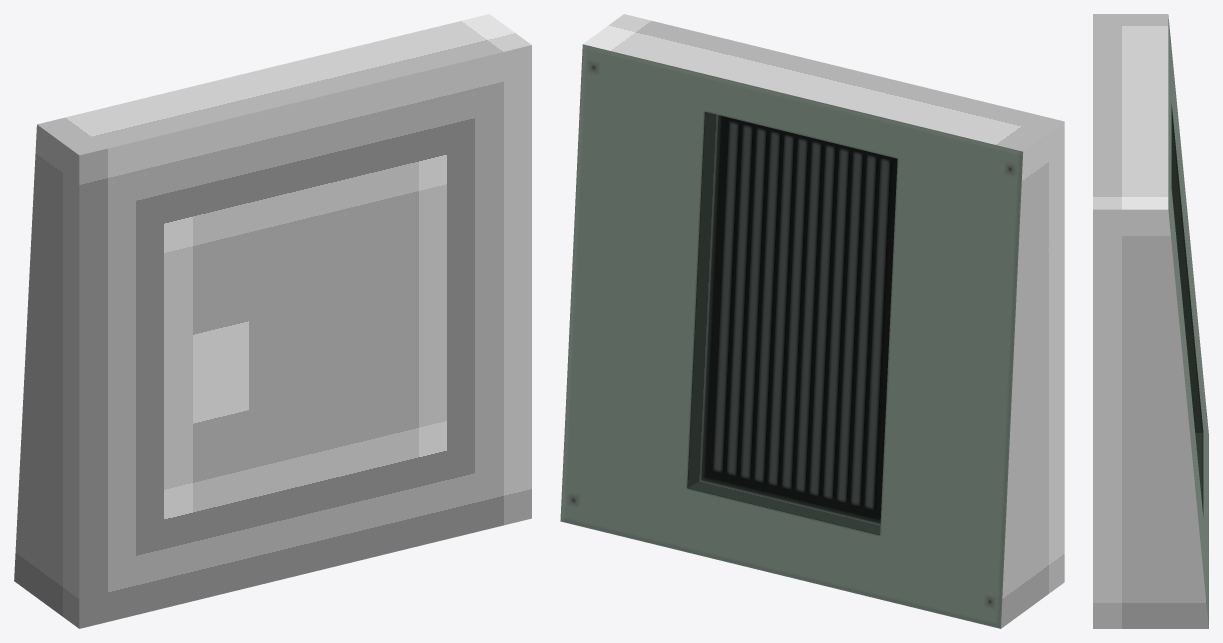
Rendered from header_vent.obj.
The picture shows the model from 3 angles, left to right: view 1: azimuth 30°, elevation 25°; view 2: azimuth 150°, elevation 25°; view 3: azimuth 270°, elevation 25°; orthographic projection. The views are drawn at different scales.
Bounding box in the file's own units: 1 × 1 × 0.25.
